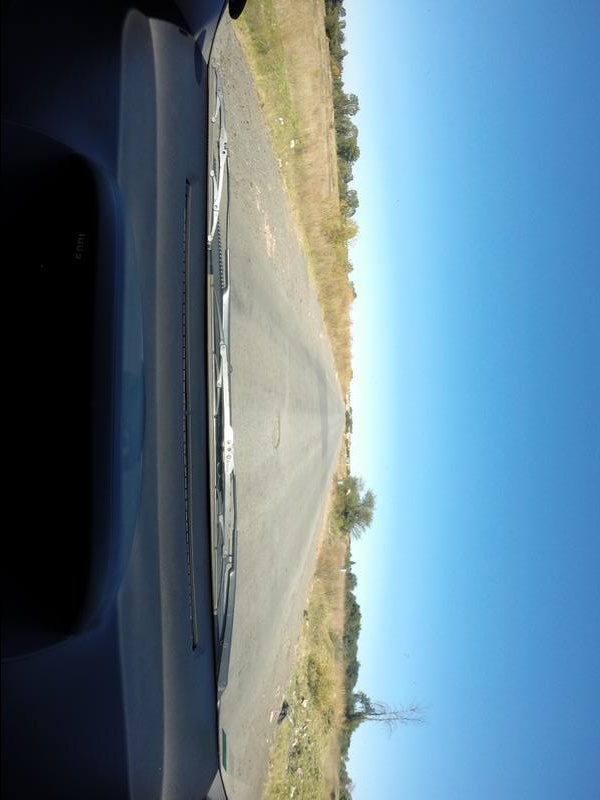pothole: (271, 412, 282, 451)
